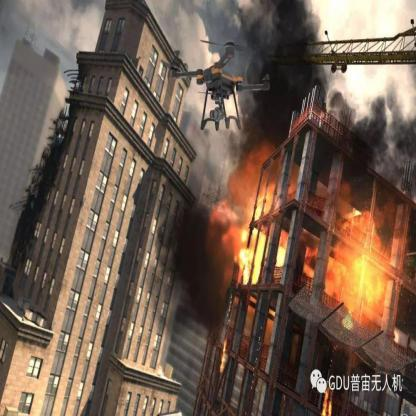fire: (203, 130, 405, 339)
